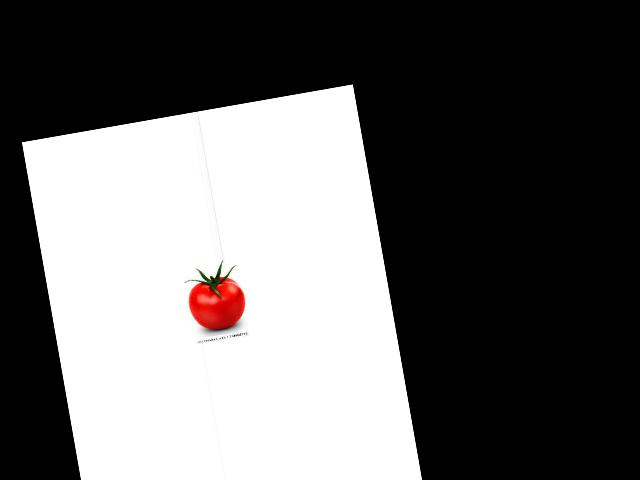tomato: (185, 273, 249, 333)
